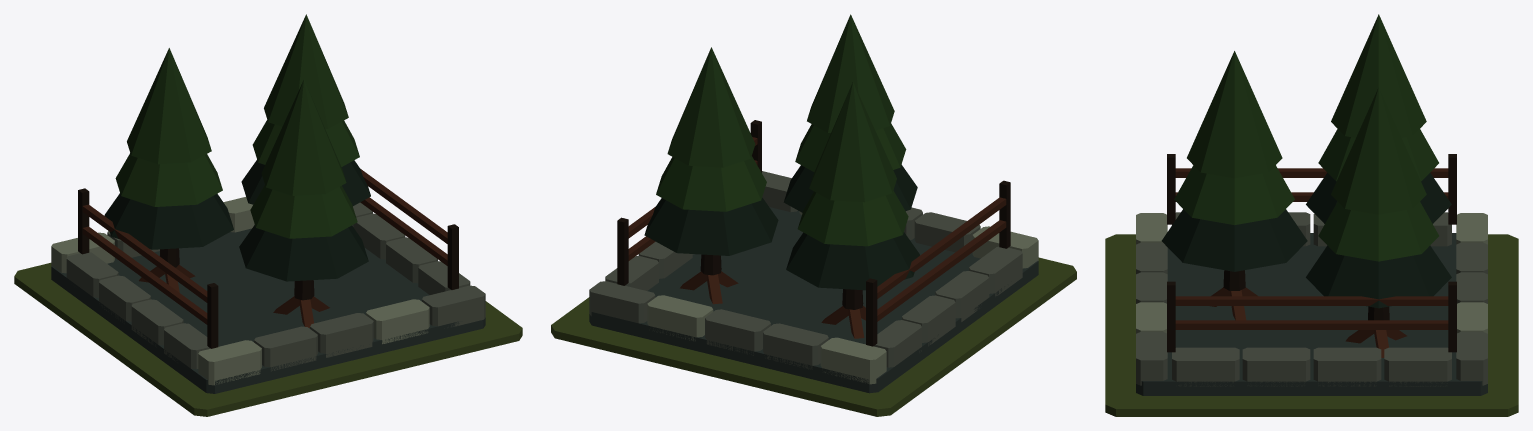
Rendered from whisper-grove_t3.glb.
3 views of the same model, side by side, from view 1: azimuth 30°, elevation 25°; view 2: azimuth 150°, elevation 25°; view 3: azimuth 270°, elevation 25° (orthographic). The views are drawn at different scales.
Visible parts, largest first — view 1: MMR | whisper-grove | T03 Architecture.001, MMR | whisper-grove | Tier 03 Ground.001; view 2: MMR | whisper-grove | T03 Architecture.001, MMR | whisper-grove | Tier 03 Ground.001; view 3: MMR | whisper-grove | T03 Architecture.001, MMR | whisper-grove | Tier 03 Ground.001.
Boxes of the visible parts, x1,y1,x2,y2 form: MMR | whisper-grove | T03 Architecture.001: [51, 14, 485, 393]; MMR | whisper-grove | Tier 03 Ground.001: [14, 262, 522, 416]; MMR | whisper-grove | T03 Architecture.001: [589, 14, 1038, 393]; MMR | whisper-grove | Tier 03 Ground.001: [551, 257, 1076, 416]; MMR | whisper-grove | T03 Architecture.001: [1136, 14, 1487, 395]; MMR | whisper-grove | Tier 03 Ground.001: [1105, 234, 1518, 416].
Size of the model in its own units: 2.35 by 1.75 by 2.35.
Materials: 1 (1 with a texture image).
